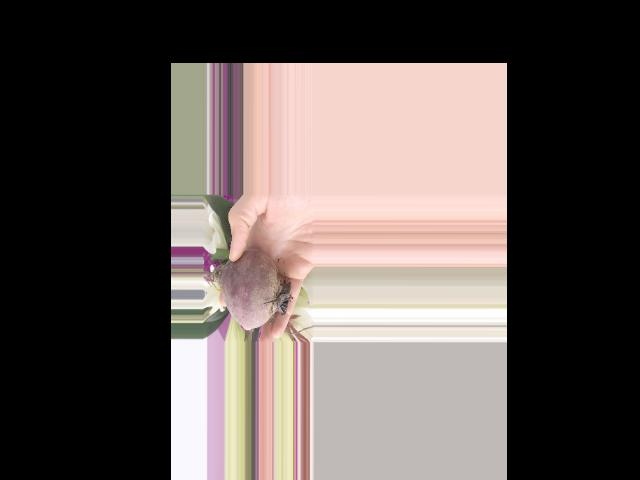beet: (203, 249, 294, 329)
